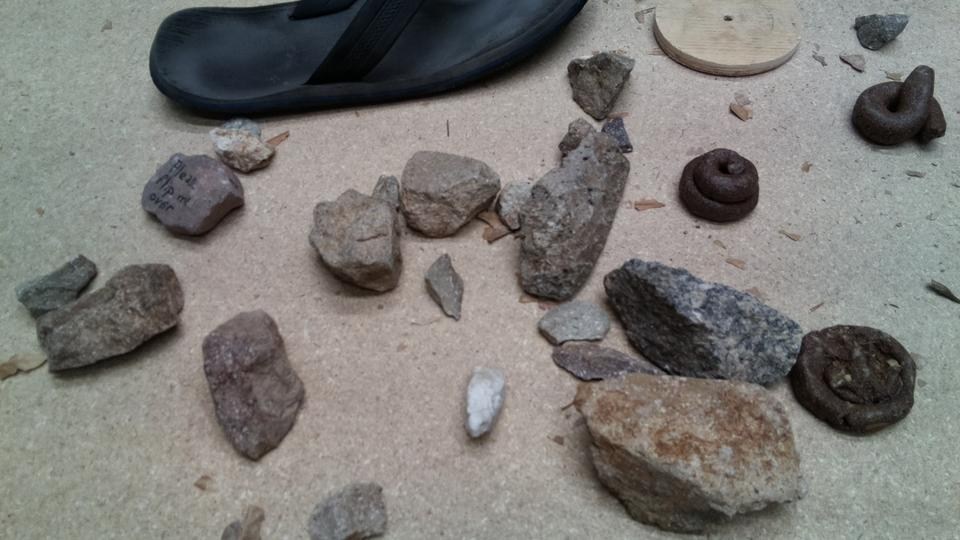poop: (789, 321, 919, 438), (848, 62, 949, 147), (677, 147, 763, 225)
